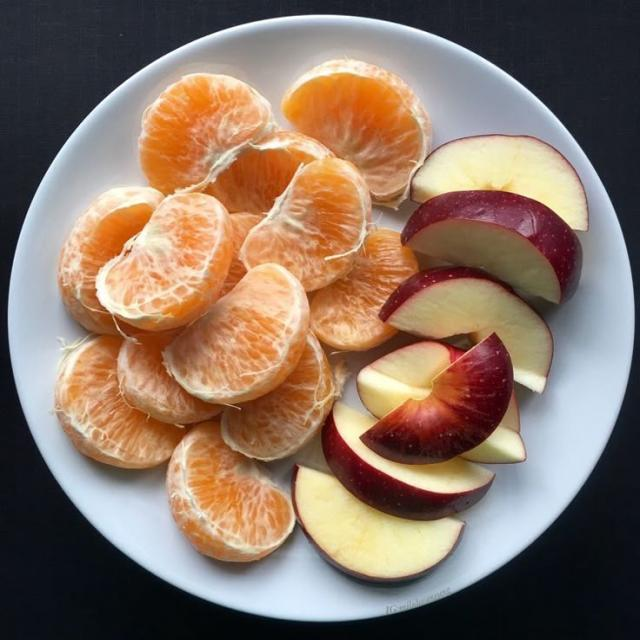apple: (380, 267, 553, 392), (322, 401, 494, 519), (402, 191, 582, 303), (292, 465, 464, 581), (361, 333, 513, 463), (411, 134, 588, 230), (357, 341, 464, 418), (462, 426, 526, 463)
